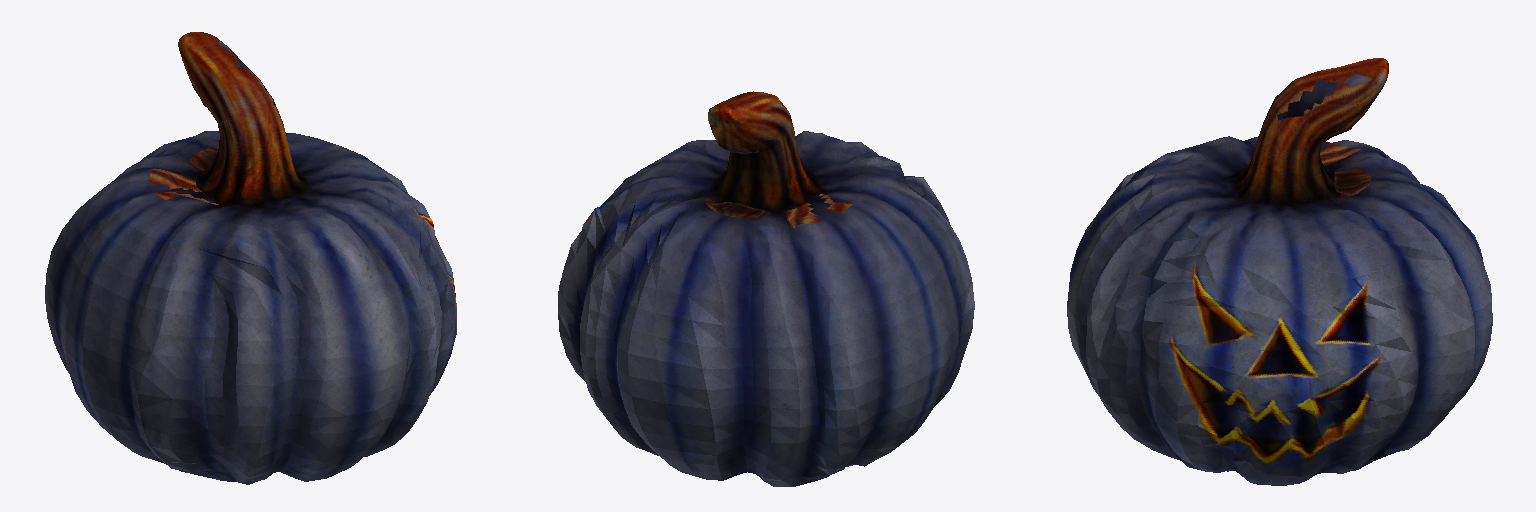
The picture shows the model from 3 angles: view 1: azimuth 30°, elevation 25°; view 2: azimuth 150°, elevation 25°; view 3: azimuth 270°, elevation 25°; orthographic projection.
Parts seen in each view (by area): view 1: mesh; view 2: mesh; view 3: mesh.
Part boxes in pixels (bbox=[...]): mesh: bbox=[45, 32, 456, 484]; mesh: bbox=[558, 91, 974, 486]; mesh: bbox=[1067, 58, 1492, 485].
Bounding box in the file's own units: 0.9383 × 0.9674 × 0.9902.
1 materials, 1 textured.